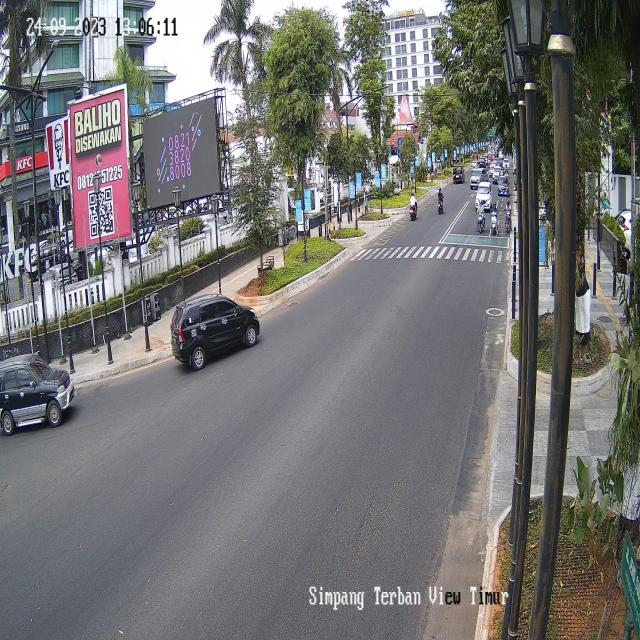car: (170, 295, 261, 372), (0, 352, 73, 429), (476, 182, 492, 211), (470, 168, 489, 188), (453, 164, 465, 184), (499, 175, 509, 195), (492, 166, 502, 182)
motorcycle: (408, 193, 418, 222), (490, 201, 498, 236), (504, 200, 512, 232), (477, 198, 484, 234), (437, 187, 443, 214)
